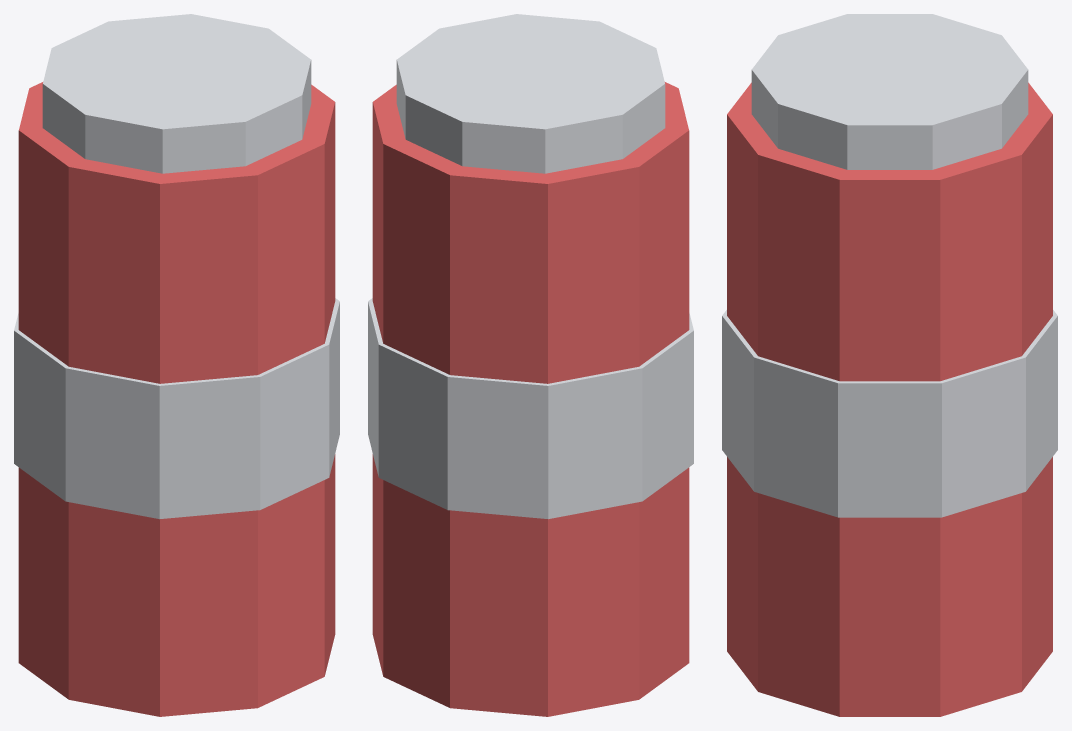
The model's file is beer_can.glb.
3 views of the same model, side by side, from view 1: azimuth 30°, elevation 25°; view 2: azimuth 150°, elevation 25°; view 3: azimuth 270°, elevation 25° (orthographic).
Parts seen in each view (by area): view 1: beer_can; view 2: beer_can; view 3: beer_can.
Boxes of the visible parts, x1,y1,x2,y2 form: beer_can: (14,14,339,716); beer_can: (368,14,693,716); beer_can: (722,14,1057,716).
Size of the model in its own units: 0.0647 by 0.13 by 0.068.
